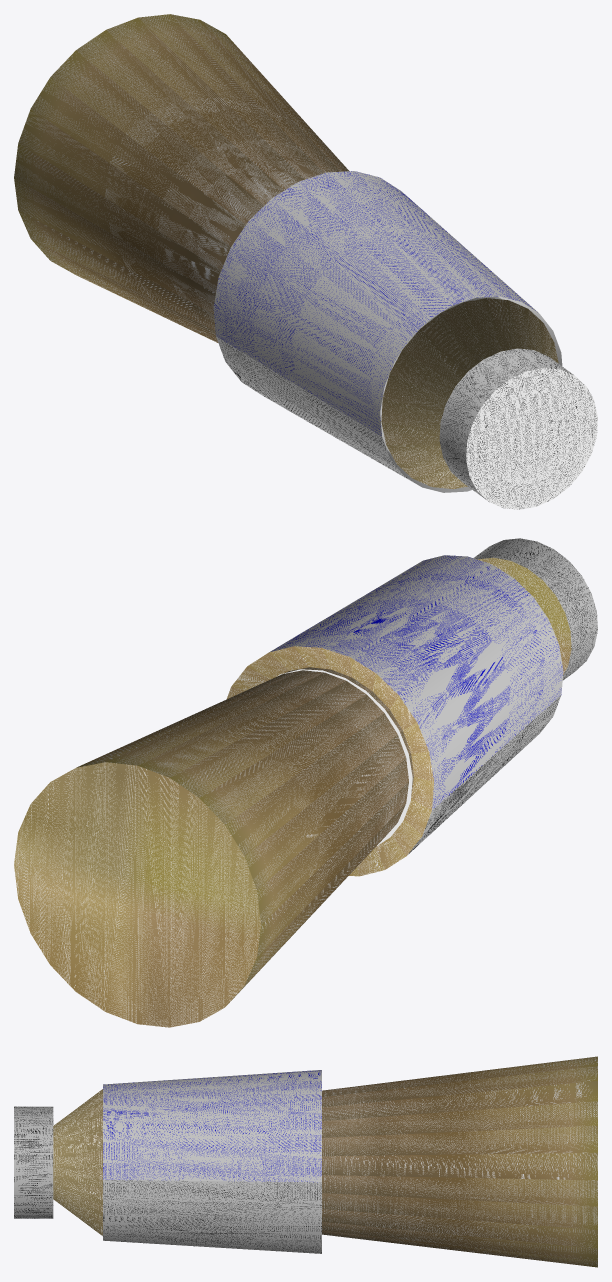
The model's file is model_scale.obj.
3 views of the same model, one above another, from view 1: azimuth 30°, elevation 25°; view 2: azimuth 150°, elevation 25°; view 3: azimuth 270°, elevation 25° (orthographic). The views are drawn at different scales.
Parts seen in each view (by area): view 1: mesh1_mesh1-geometry, mesh2_mesh2-geometry; view 2: mesh1_mesh1-geometry, mesh2_mesh2-geometry, mesh3_mesh3-geometry; view 3: mesh1_mesh1-geometry, mesh2_mesh2-geometry.
Part boxes in pixels (box(x1,y1,x2,y2)): mesh1_mesh1-geometry: box(14, 14, 562, 492); mesh2_mesh2-geometry: box(381, 298, 597, 509); mesh1_mesh1-geometry: box(14, 555, 563, 1027); mesh2_mesh2-geometry: box(473, 538, 597, 680); mesh3_mesh3-geometry: box(277, 669, 412, 845); mesh1_mesh1-geometry: box(103, 1056, 597, 1267); mesh2_mesh2-geometry: box(14, 1089, 102, 1235).
Size of the model in its own units: 0.0958 by 0.0958 by 0.264.
